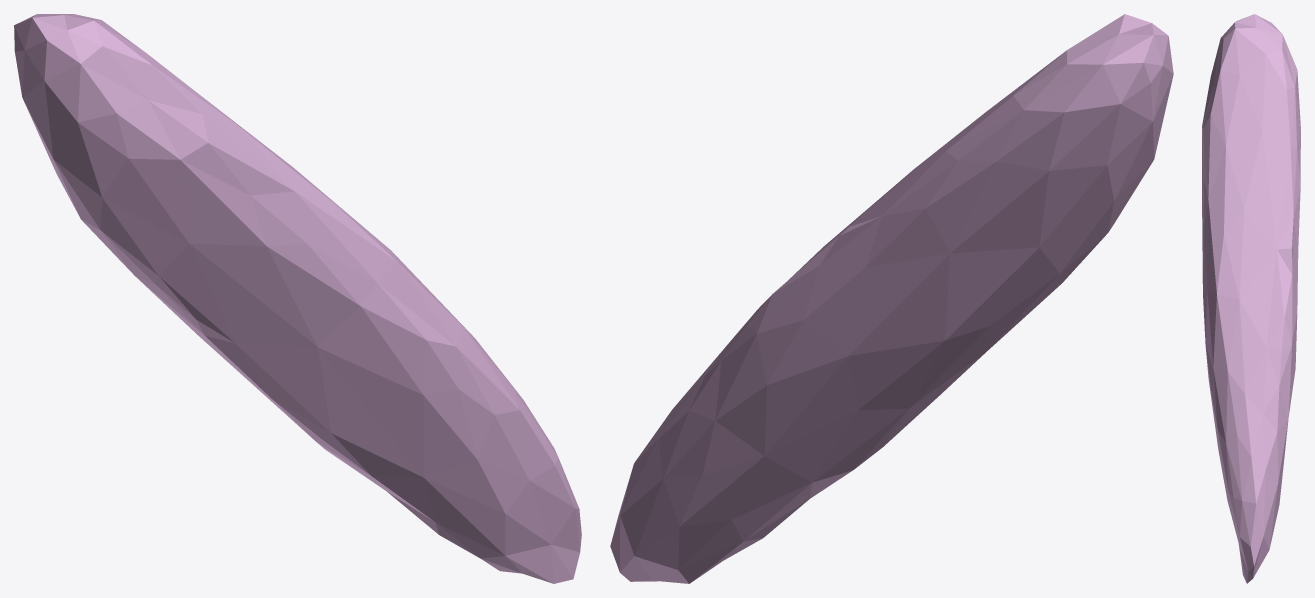
3 renders of one model, left to right at view 1: azimuth 30°, elevation 25°; view 2: azimuth 150°, elevation 25°; view 3: azimuth 270°, elevation 25°, orthographic. The views are drawn at different scales.
Parts seen in each view (by area): view 1: 197.obj; view 2: 197.obj; view 3: 197.obj.
Part boxes in pixels (x1,y1,x2,y2): 197.obj: (14,14,581,583); 197.obj: (610,14,1173,583); 197.obj: (1202,14,1300,583).
Bounding box in the file's own units: 820 × 966 × 209.
